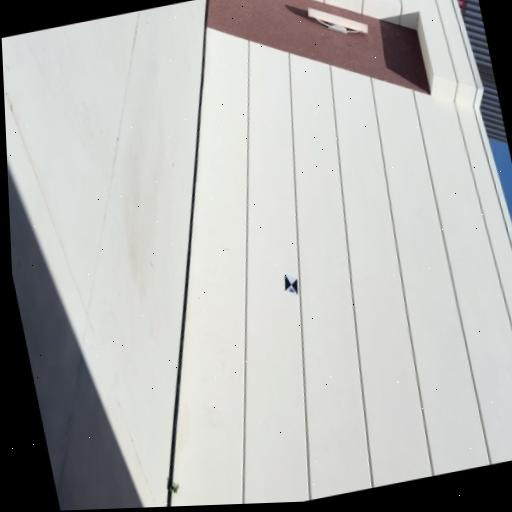target4: (284, 273, 298, 295)
